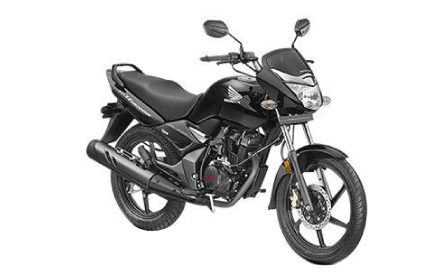bike: (82, 16, 371, 265)
